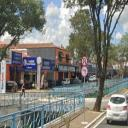NoVirarEsquerda: (81, 67, 88, 77)
NoVirarU: (81, 56, 88, 66)
